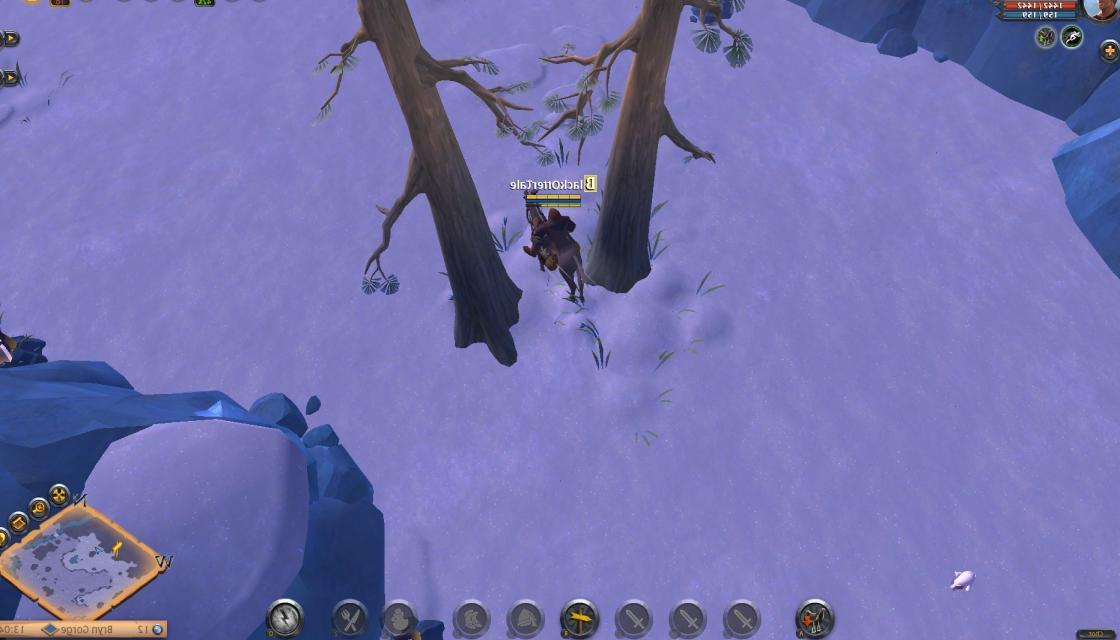copperore: (0, 325, 54, 375)
